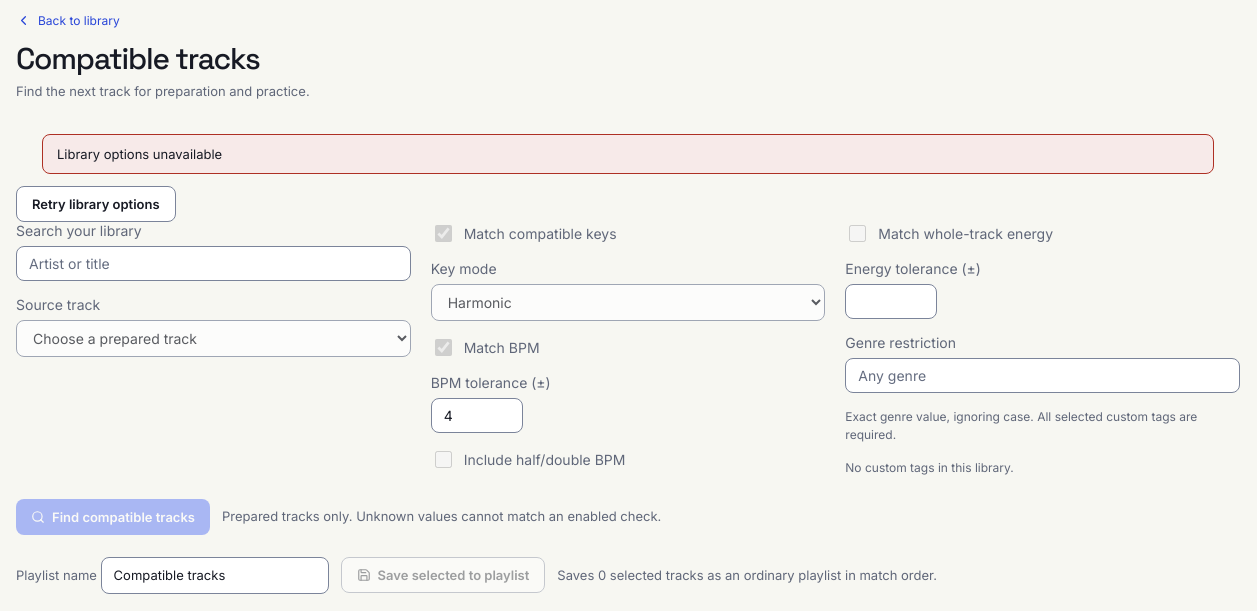
Compatible tracks › requires successful library options loading and offers a retry
The image size is (1257, 611).
Expected: the text "Library options unavailable" is shown, [42,134,1214,174]
Expected: the button "Find compatible tracks" is disabled, [16,498,210,534]
Step 1. Click the button "Retry library options" → (96, 204), box [16,186,176,222]
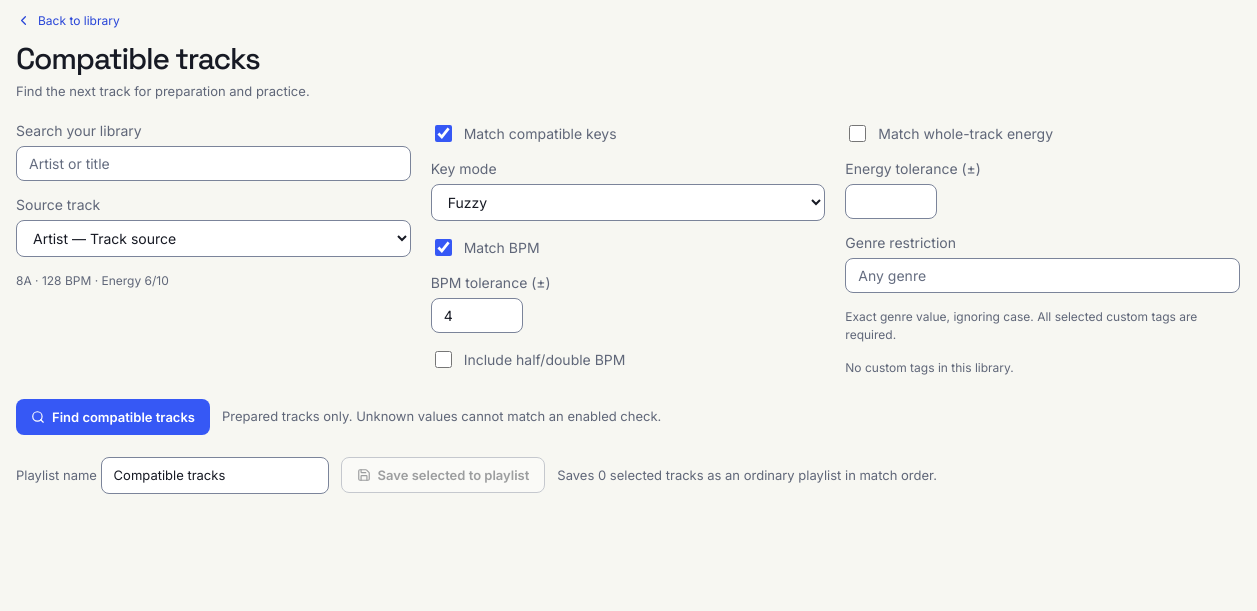
Expected: the button "Find compatible tracks" is enabled, [16,398,210,434]
Expected: the dropdown labelled "Key mode" shows "Fuzzy", [431,184,825,220]
